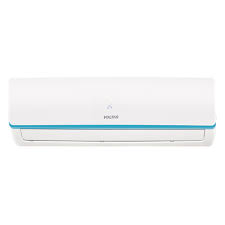ac: (7, 73, 220, 150)
